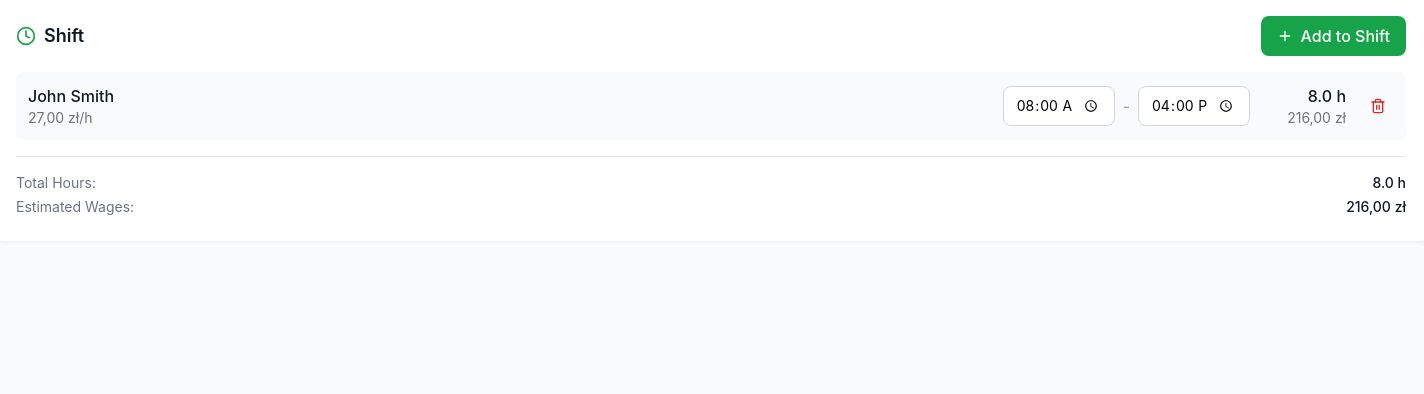
ShiftAssignmentSection › Add Shift › opens add form when clicking add button
Expected: the text "John Smith" is shown, [28,84,114,108]
Click the button "Add to Shift" at (1333, 36), box [1261,16,1406,56]
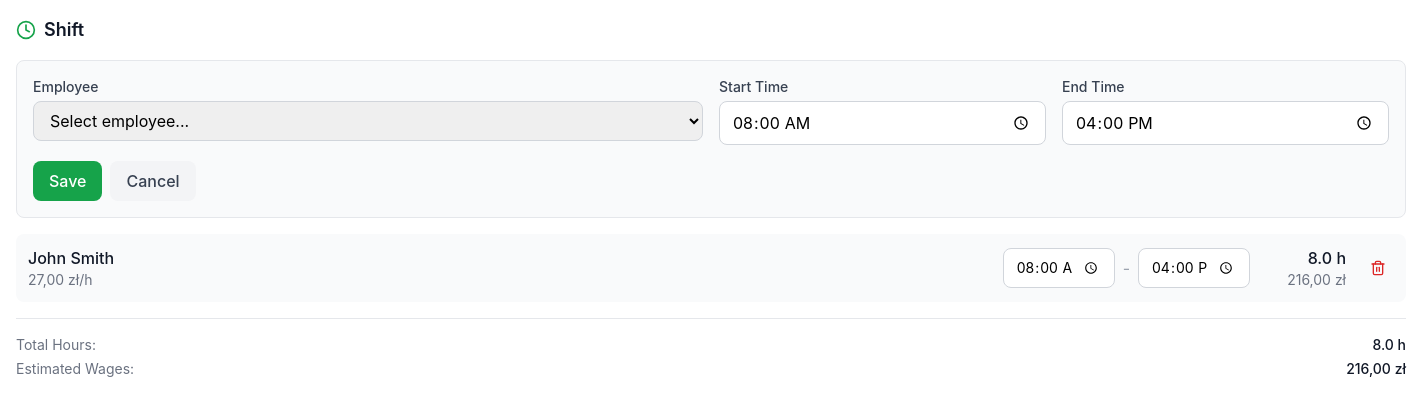
Expected: the dropdown is shown, [33,101,703,141]
Expected: the text "Start Time" is shown, [719,78,788,95]
Expected: the text "End Time" is shown, [1062,78,1125,95]
